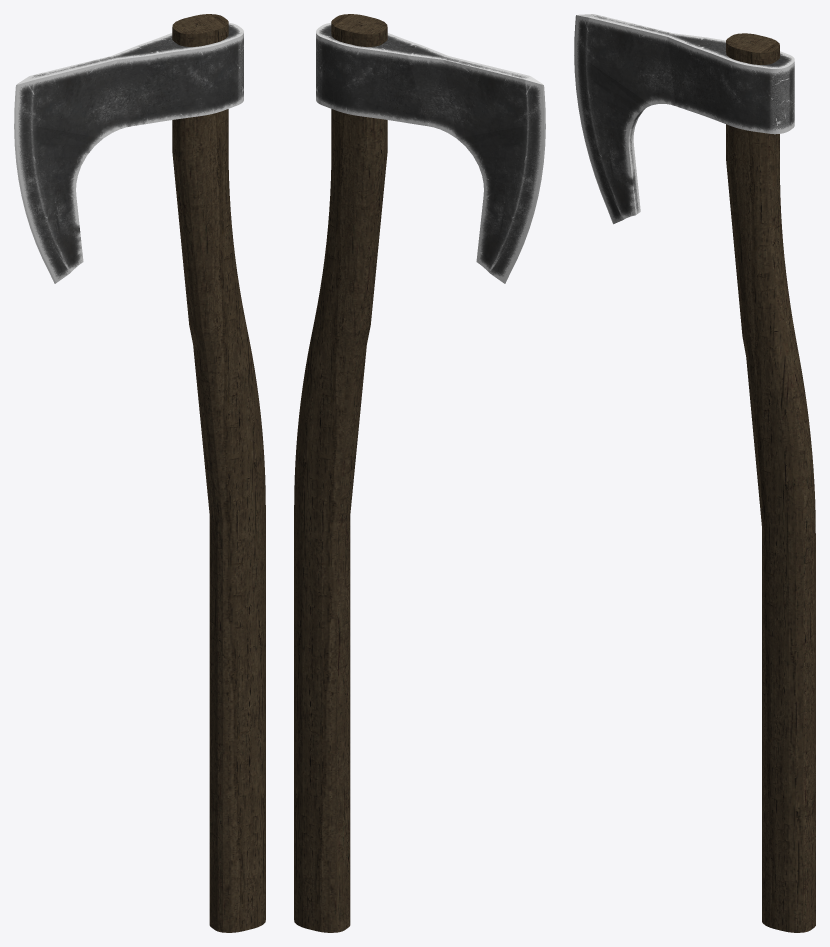
The model's file is Battle  Axe.fbx.
3 views of the same model, side by side, from view 1: azimuth 30°, elevation 25°; view 2: azimuth 150°, elevation 25°; view 3: azimuth 330°, elevation 25° (orthographic). The views are drawn at different scales.
Visible parts, largest first — view 1: Handle, Head; view 2: Handle, Head; view 3: Handle, Head.
Part boxes in pixels (x1=…): Handle: x1=172, y1=14, x2=265, y2=932; Head: x1=14, y1=22, x2=243, y2=283; Handle: x1=294, y1=14, x2=387, y2=932; Head: x1=316, y1=22, x2=545, y2=283; Handle: x1=726, y1=33, x2=815, y2=932; Head: x1=574, y1=14, x2=794, y2=224.
Size of the model in its own units: 21.48 by 75 by 3.77.
1 material, 1 textured.
